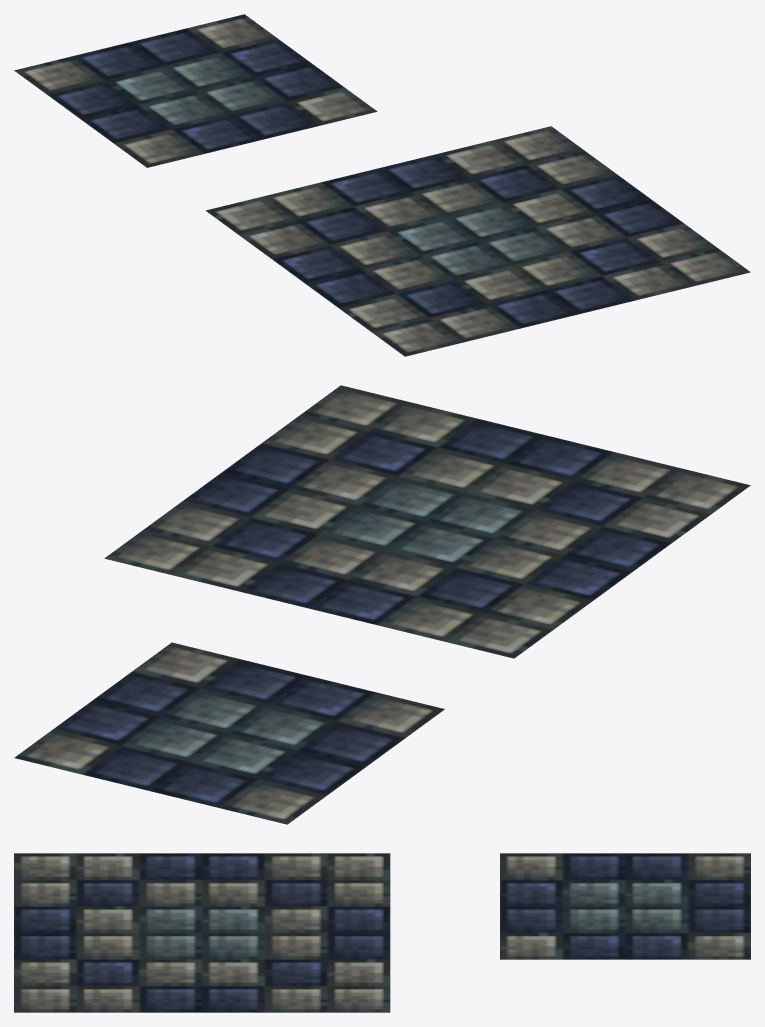
File: EnvMdrMD_Daiseidou_A_Floor_Pattern_B.FBX
The picture shows the model from 3 angles, top to bottom: view 1: azimuth 30°, elevation 25°; view 2: azimuth 150°, elevation 25°; view 3: azimuth 270°, elevation 25°; orthographic projection. The views are drawn at different scales.
Visible parts, largest first — view 1: EnvMdrMD_Daiseidou_A_Floor_Pattern_B, EnvMdrMD_Daiseidou_A_Floor_Pattern_C; view 2: EnvMdrMD_Daiseidou_A_Floor_Pattern_B, EnvMdrMD_Daiseidou_A_Floor_Pattern_C; view 3: EnvMdrMD_Daiseidou_A_Floor_Pattern_B, EnvMdrMD_Daiseidou_A_Floor_Pattern_C.
Boxes of the visible parts, bbox=[...] form: EnvMdrMD_Daiseidou_A_Floor_Pattern_B: bbox=[205, 126, 750, 356]; EnvMdrMD_Daiseidou_A_Floor_Pattern_C: bbox=[14, 14, 377, 167]; EnvMdrMD_Daiseidou_A_Floor_Pattern_B: bbox=[104, 385, 750, 658]; EnvMdrMD_Daiseidou_A_Floor_Pattern_C: bbox=[14, 642, 444, 824]; EnvMdrMD_Daiseidou_A_Floor_Pattern_B: bbox=[14, 853, 390, 1012]; EnvMdrMD_Daiseidou_A_Floor_Pattern_C: bbox=[500, 853, 750, 959].
Size of the model in its own units: 240 by 1.47e-14 by 470.
1 material, 1 textured.
